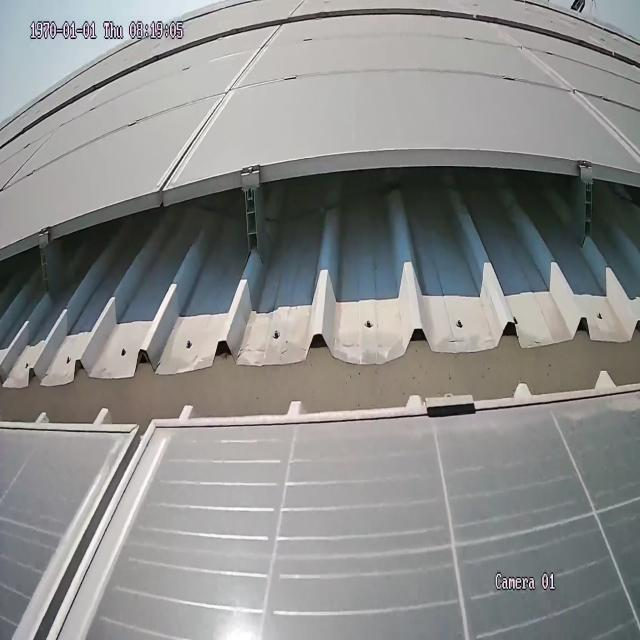interior panel: (15, 436, 166, 638), (494, 33, 640, 150), (159, 34, 279, 174)
outher panel: (1, 163, 640, 429)
